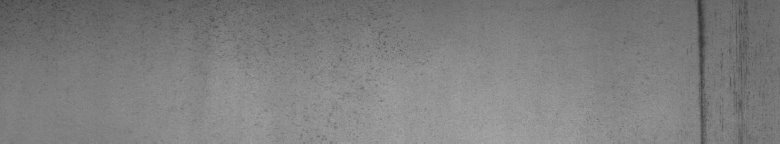hd: (689, 4, 763, 136)
